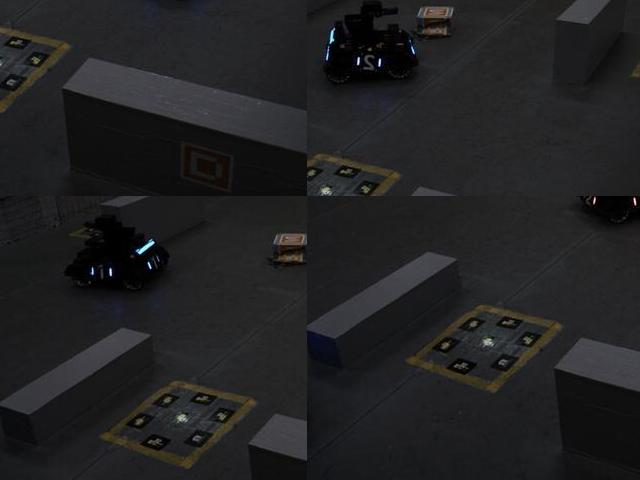armor: (353, 52, 388, 77), (85, 261, 117, 284), (143, 252, 164, 274), (580, 196, 600, 211), (625, 196, 639, 212)
